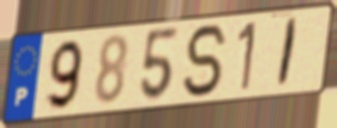1: (235, 19, 258, 94)
5: (137, 25, 182, 106)
8: (92, 32, 131, 109)
9: (43, 37, 85, 113)
I: (274, 16, 301, 91)
S: (182, 22, 231, 101)
